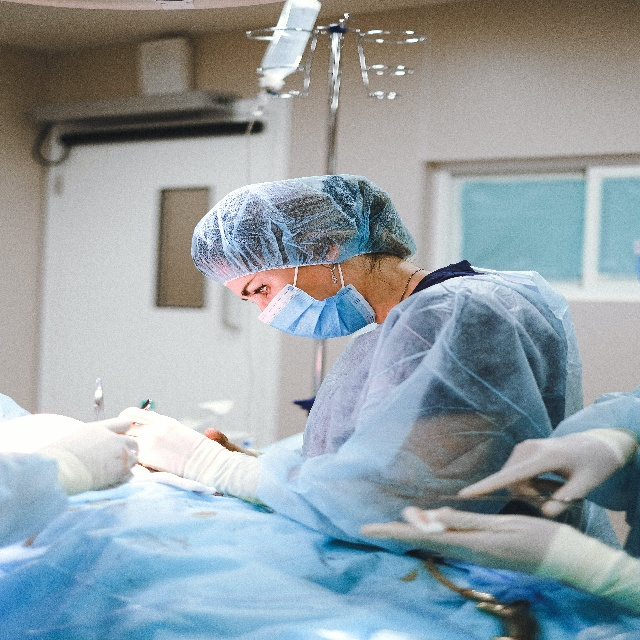Guantes: (360, 497, 565, 586), (458, 420, 640, 511), (120, 405, 219, 487), (60, 412, 138, 502)
Mascara: (254, 274, 376, 335)
